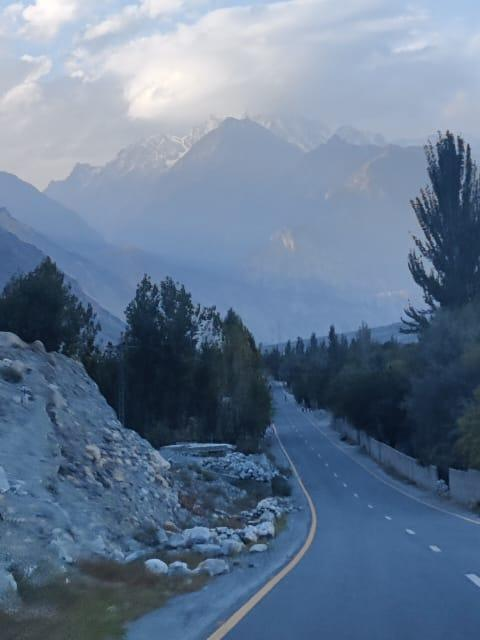sharp_turn: (270, 373, 356, 570)
